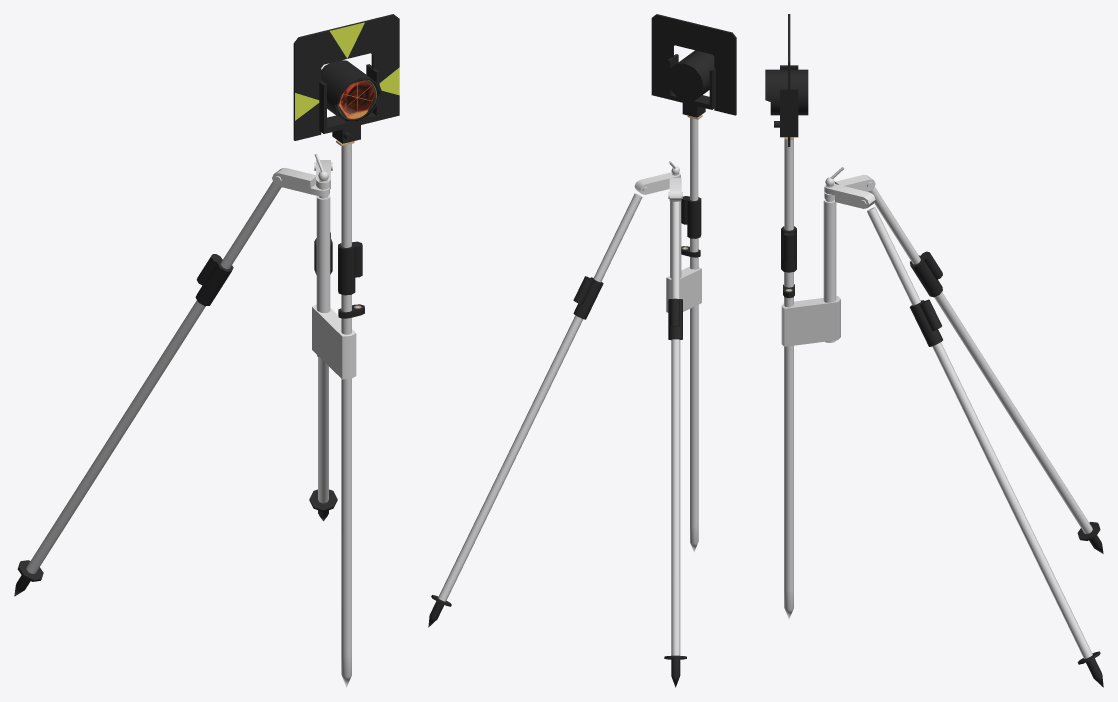
The model's file is Mirror.FBX.
3 views of the same model, side by side, from view 1: azimuth 30°, elevation 25°; view 2: azimuth 150°, elevation 25°; view 3: azimuth 270°, elevation 25° (orthographic). The views are drawn at different scales.
Visible parts, largest first — view 1: Cylinder15, Box01, Cylinder23, Cylinder03, Cylinder07, Cylinder17, Cylinder24, Cylinder22; view 2: Box01, Cylinder15, Cylinder23, Cylinder07, Cylinder03, Cylinder14, Cylinder24, Cylinder17, Cylinder19; view 3: Cylinder15, Cylinder07, Cylinder23, Cylinder03, Box01, Cylinder14, Cylinder17, Cylinder24, Cylinder19.
Part boxes in pixels (x1,y1,x2,y2): Cylinder15: (312,153,364,687); Box01: (293,14,399,143); Cylinder23: (14,254,233,596); Cylinder03: (321,60,382,122); Cylinder07: (309,232,337,521); Cylinder17: (336,140,354,247); Cylinder24: (220,181,281,269); Cylinder22: (272,167,329,196); Box01: (651,14,736,117); Cylinder15: (666,161,701,552); Cylinder23: (664,298,686,687); Cylinder07: (428,276,603,627); Cylinder03: (667,50,714,101); Cylinder14: (593,193,642,282); Cylinder24: (671,202,679,298); Cylinder17: (687,115,702,200); Cylinder19: (634,172,680,194); Cylinder15: (781,166,844,619); Cylinder07: (909,299,1103,687); Cylinder23: (910,251,1103,553); Cylinder03: (765,69,808,115); Box01: (774,14,798,146); Cylinder14: (867,207,920,305); Cylinder17: (784,137,793,230); Cylinder24: (868,187,920,264); Cylinder19: (824,184,875,208).
Size of the model in its own units: 64.83 by 68.02 by 130.
1 material, 1 textured.
